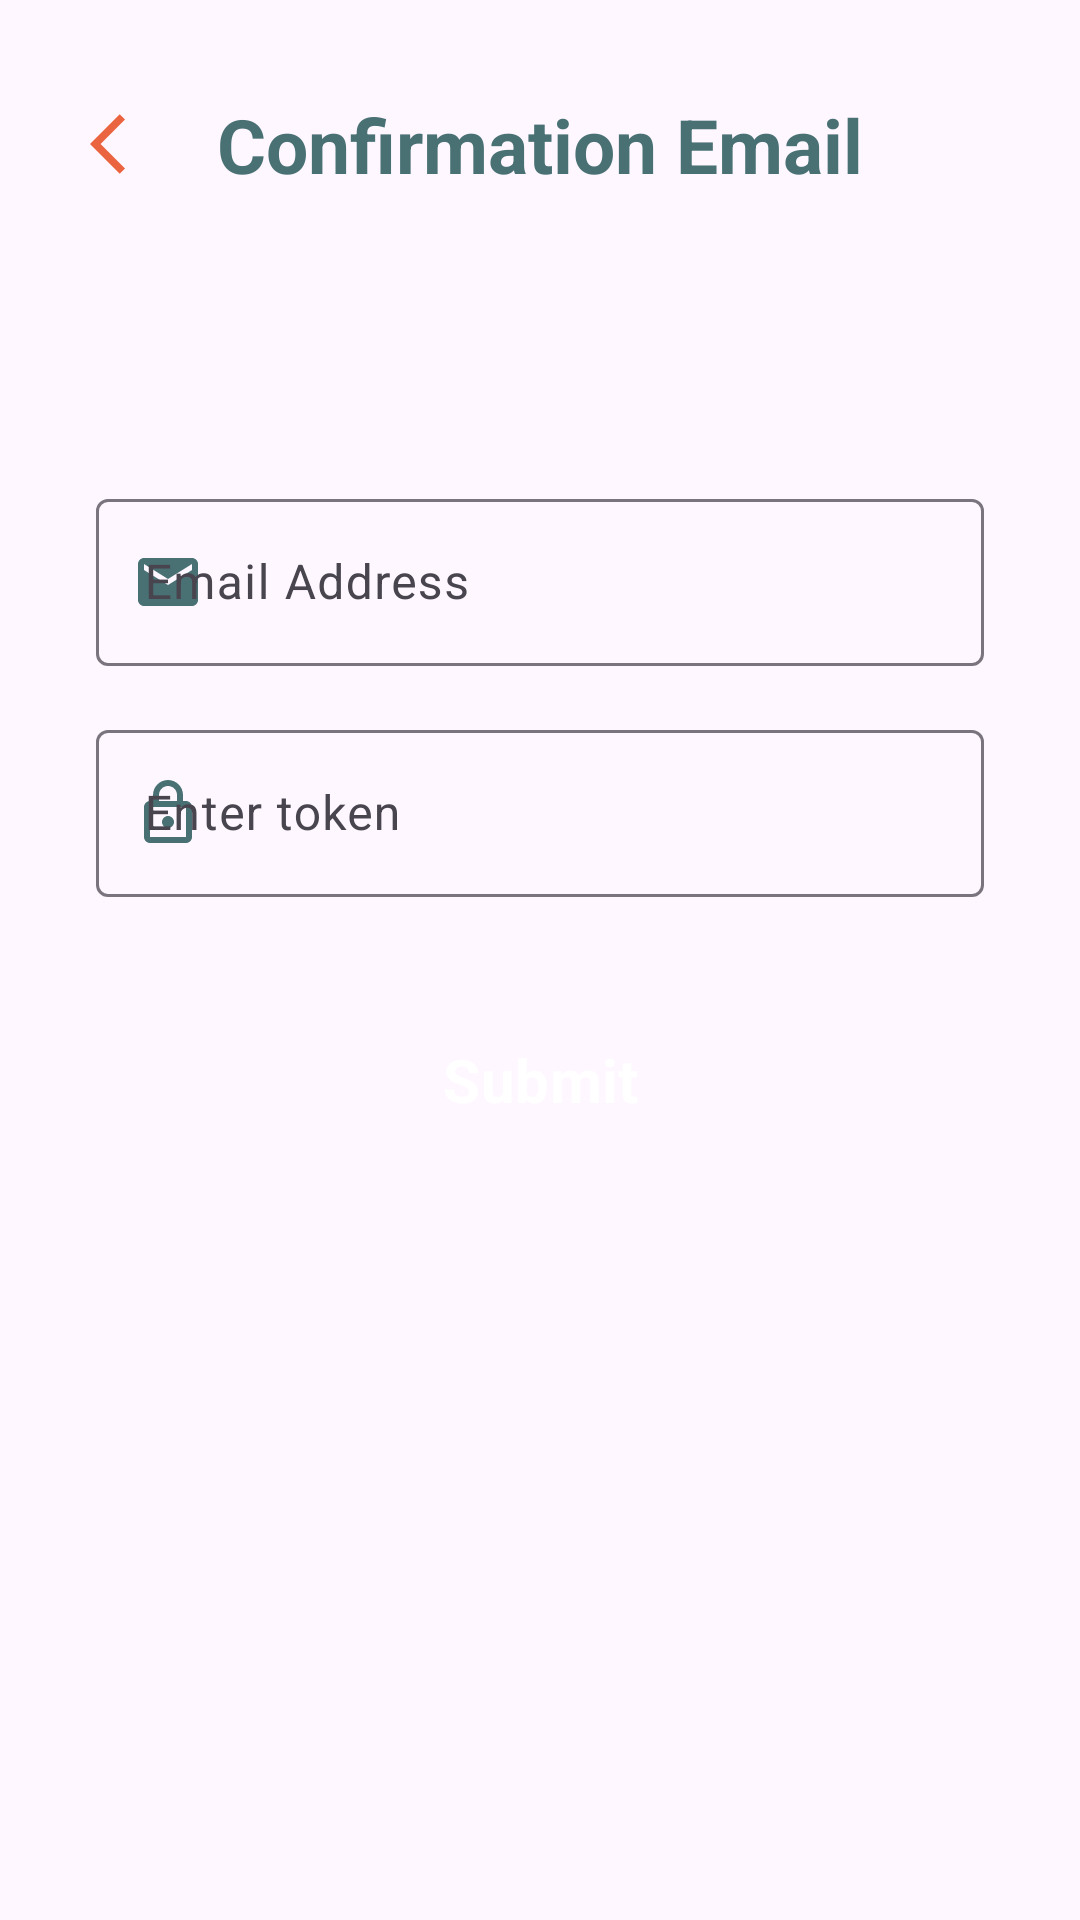

Named icons in this screenshot (1080*1920) and their bounding boxes, bbox=(x1, y1, x2, y2):
back arrow: bbox=(90, 114, 125, 174)
